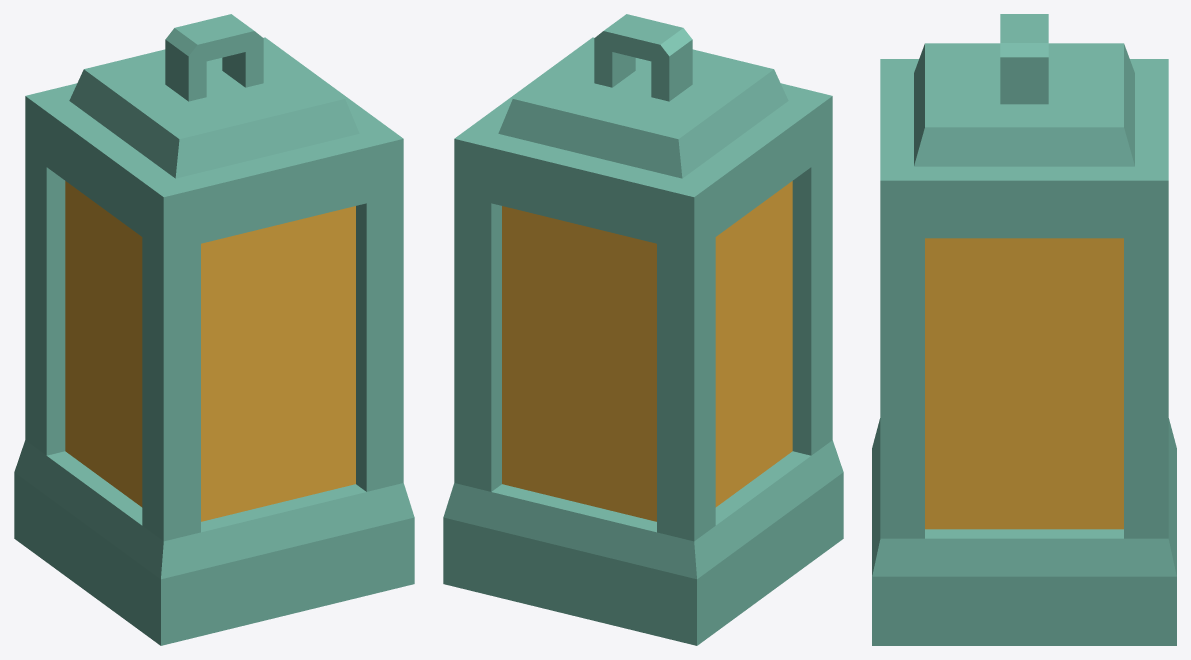
File: lanternGlass.fbx
The picture shows the model from 3 angles, left to right: view 1: azimuth 30°, elevation 25°; view 2: azimuth 150°, elevation 25°; view 3: azimuth 270°, elevation 25°; orthographic projection. The views are drawn at different scales.
Visible parts, largest first — view 1: lanternGlass; view 2: lanternGlass; view 3: lanternGlass.
Part boxes in pixels (x1,y1,x2,y2): lanternGlass: (14,14,414,645); lanternGlass: (443,14,843,645); lanternGlass: (872,14,1176,645).
Bounding box in the file's own units: 1.46 × 2.92 × 1.46.
